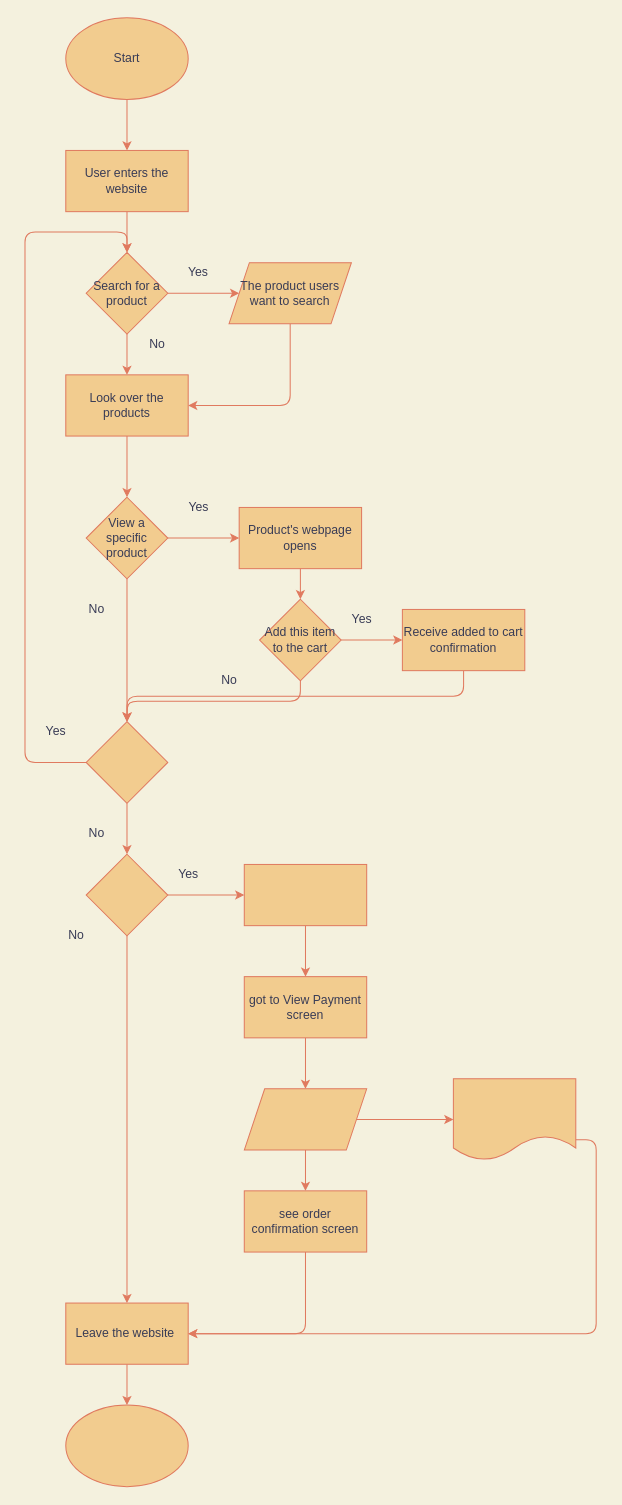
The diagram is 622 pixels wide and 1505 high, and some of its shapes have lost their labels. The shapes that lost their labels are listed below. From the top down, each one's box as (x1, y1, x2, y2) in pixels, then its label:
(85, 721, 168, 803): Continue shopping
(85, 853, 168, 936): Checkout
(243, 863, 367, 926): reach View Cart screen
(243, 1088, 367, 1150): User provides payment information
(452, 1078, 576, 1160): Receive an email
(65, 1404, 188, 1487): End
